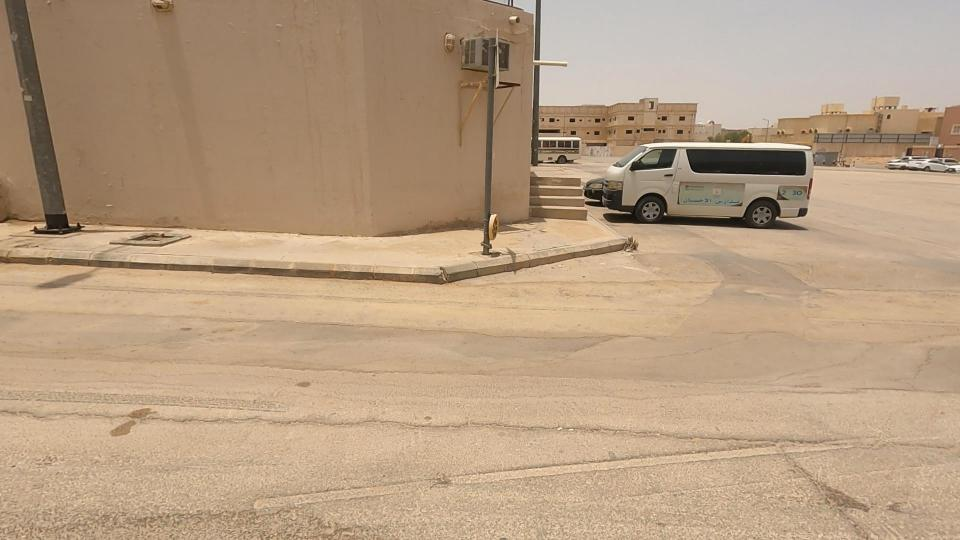POTHOLES: (562, 359, 865, 514), (395, 358, 680, 518)
